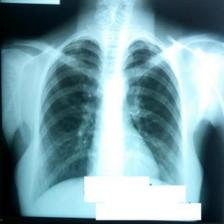tuberculosis: (33, 28, 190, 200)
